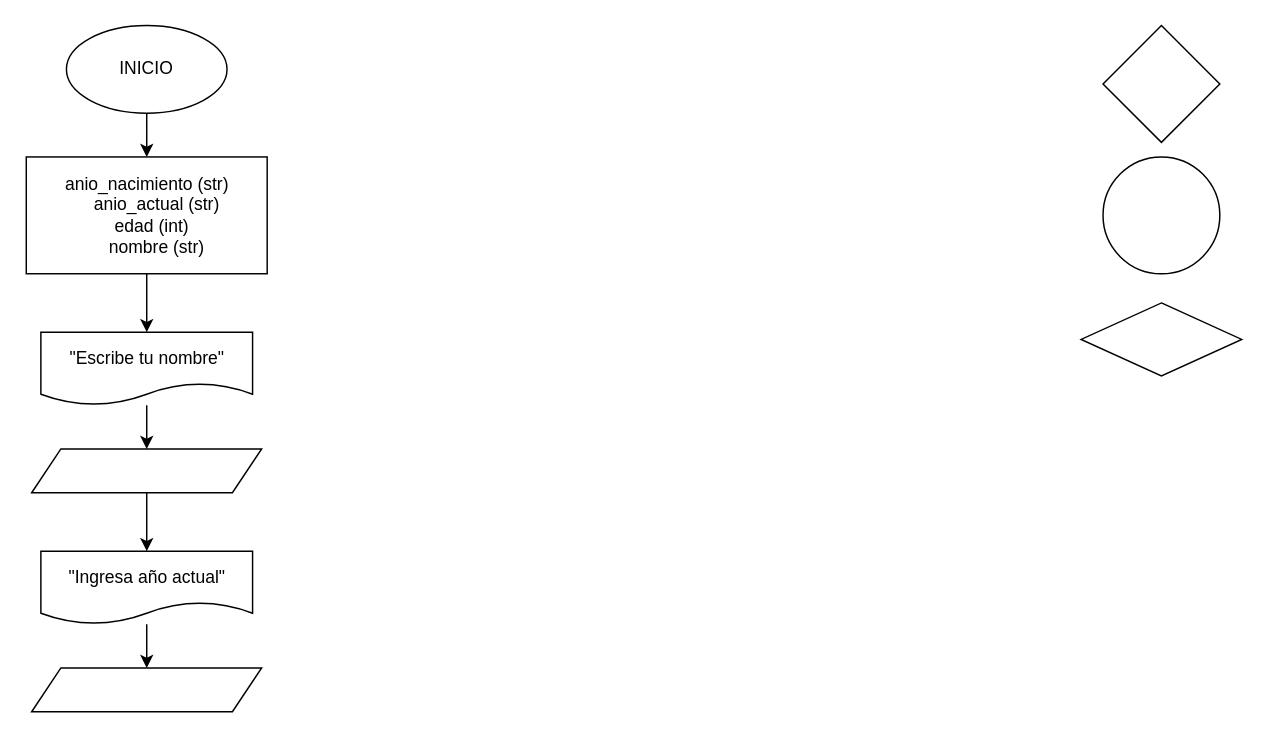
Image size: 1267x737. Some labels were removed from this diagram. The shapes that lost their labels are listed below. From the top down, each one's centre as x and y in pixels, then its label:
At (146,470): "nombre".
At (146,689): "anio_actual".
